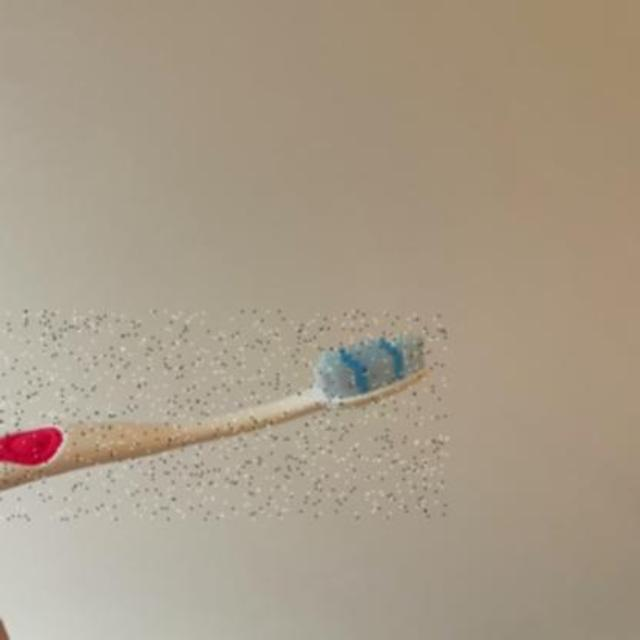toothbrush: (0, 310, 448, 520)
